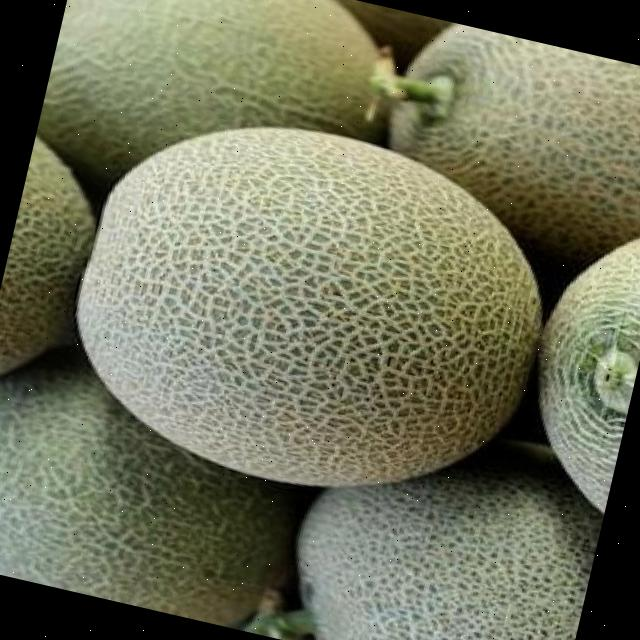Hami Melon: (42, 88, 574, 529), (26, 0, 406, 244), (0, 353, 322, 638), (369, 14, 640, 267), (273, 439, 605, 640)
